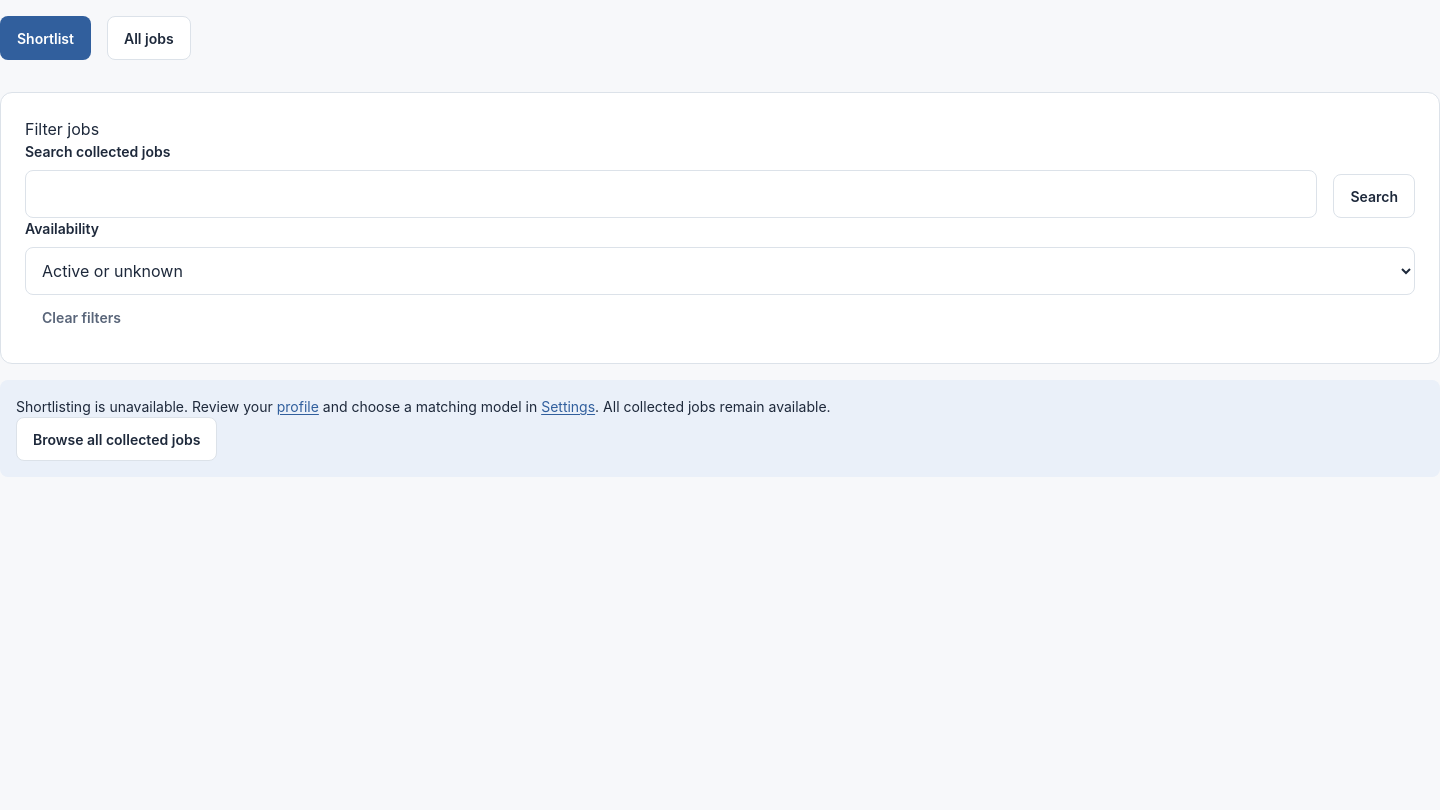
Test: missing matching model offers all jobs without presenting an empty shortlist
Click the button "Browse all collected jobs": (117, 439) [16,417,217,461]
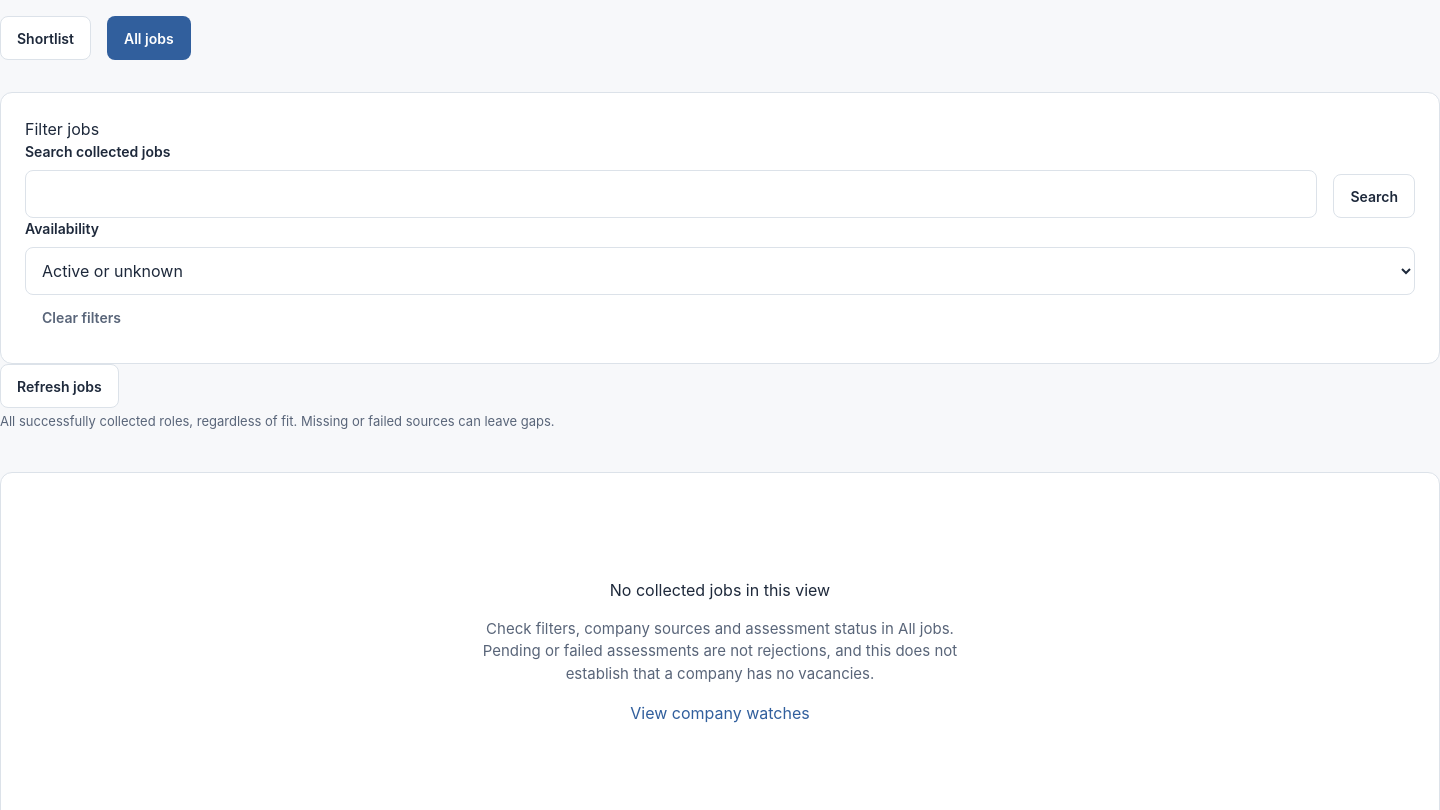
Now the heading "No collected jobs in this view" is shown, box [610,578,830,602]
